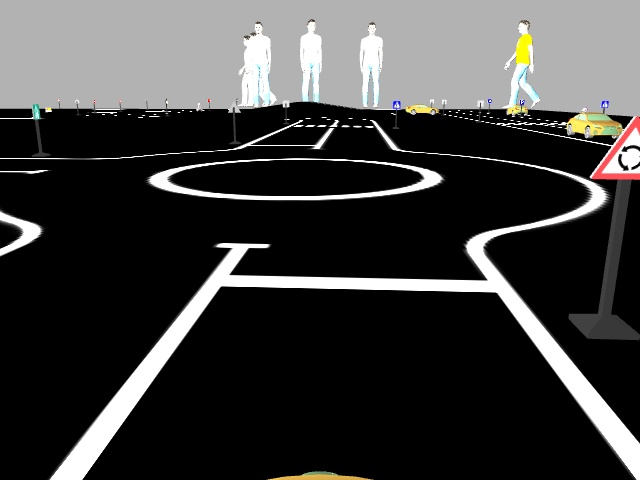Roundabout: (588, 113, 639, 185)
